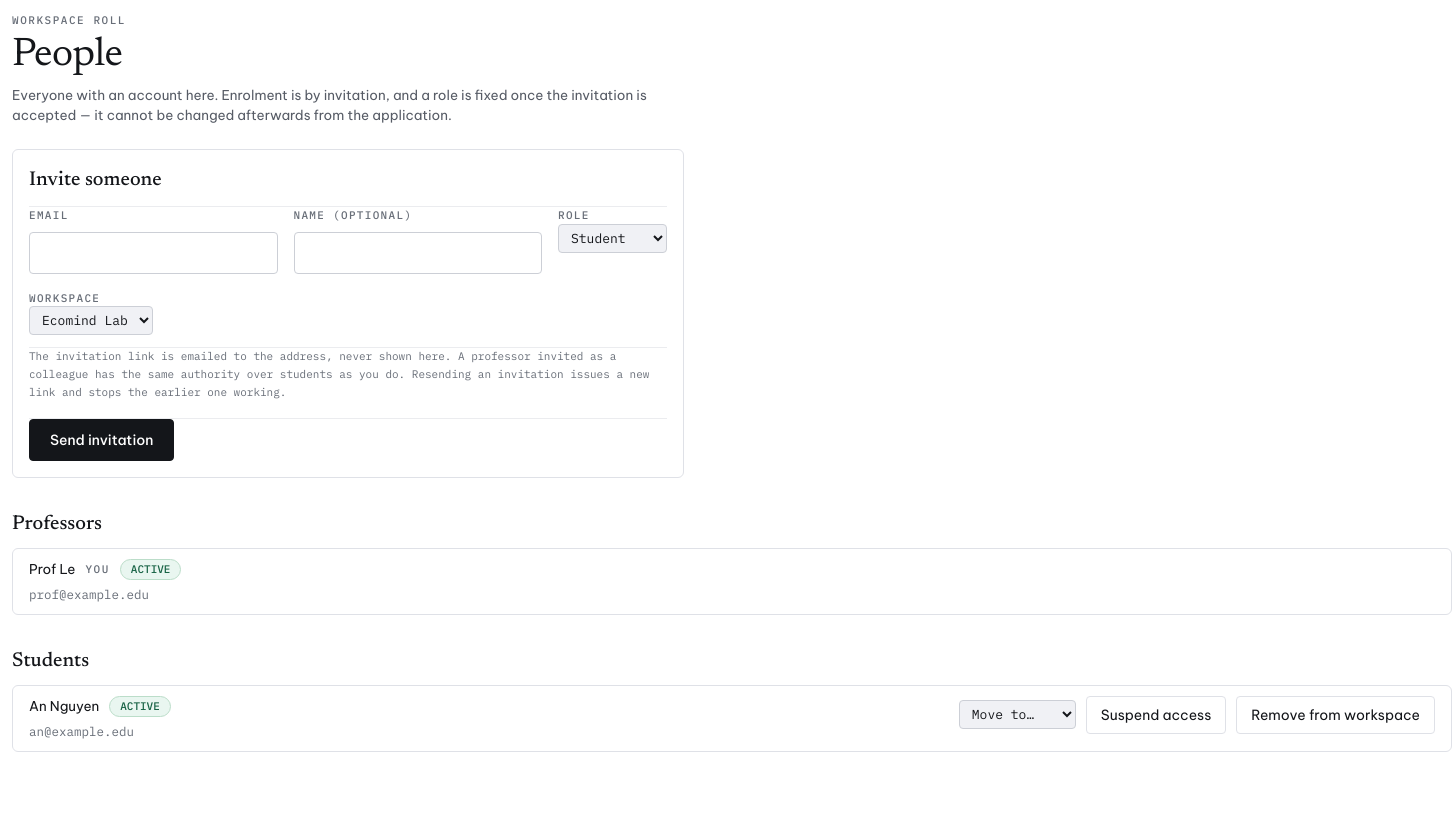
shows the API's reason when a student has already started
Select "Vision Lab" in the dropdown named "move to" at (1017, 715), box [959, 700, 1076, 729]
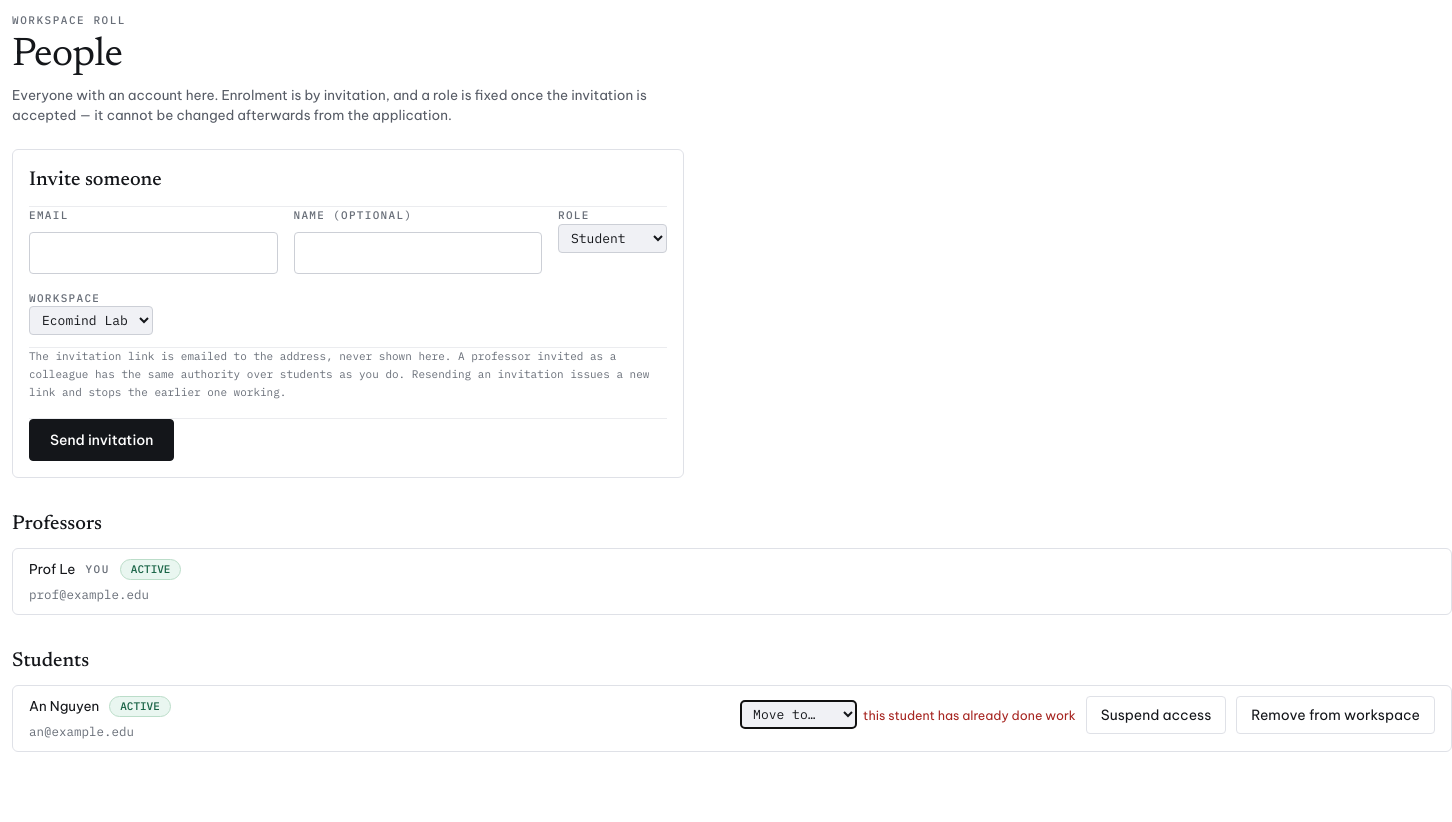
Result: the message shows "already done work" at [863, 707, 1076, 723]
